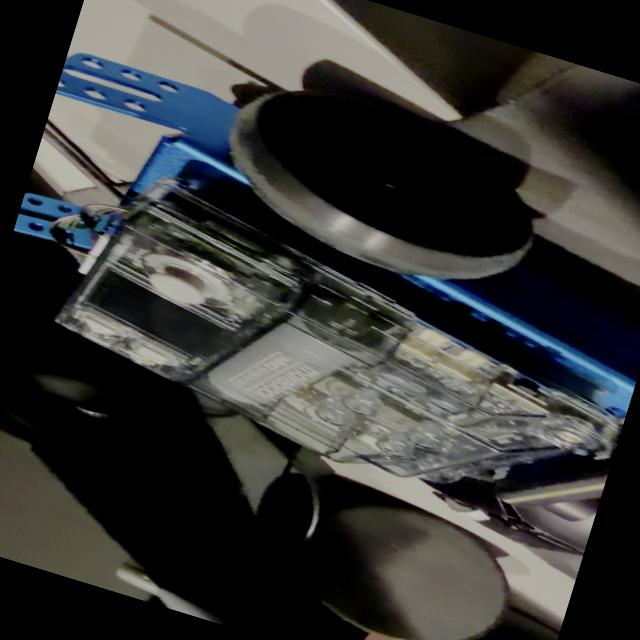mbot-detection: (0, 4, 640, 563)
